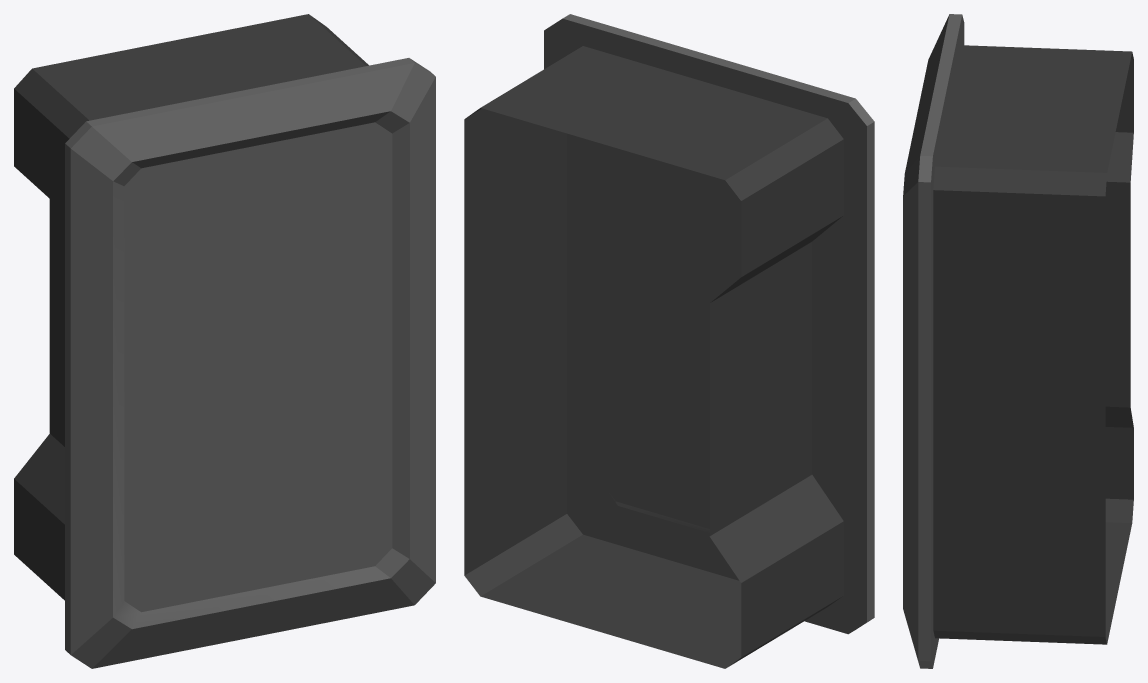
Rendered from fuse_box_A.FBX.
3 renders of one model, left to right at view 1: azimuth 30°, elevation 25°; view 2: azimuth 150°, elevation 25°; view 3: azimuth 270°, elevation 25°, orthographic. The views are drawn at different scales.
Parts seen in each view (by area): view 1: fuse_box_A; view 2: fuse_box_A; view 3: fuse_box_A.
Part boxes in pixels (x1,y1,x2,y2): fuse_box_A: (14, 14, 435, 668); fuse_box_A: (464, 14, 874, 668); fuse_box_A: (903, 14, 1133, 668).
Size of the model in its own units: 12.54 by 18.65 by 7.61.
